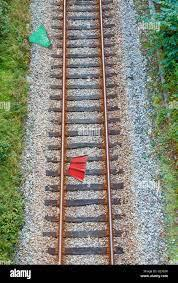Color_steel: (66, 155, 88, 183)
Dust_screen: (28, 24, 52, 50)
